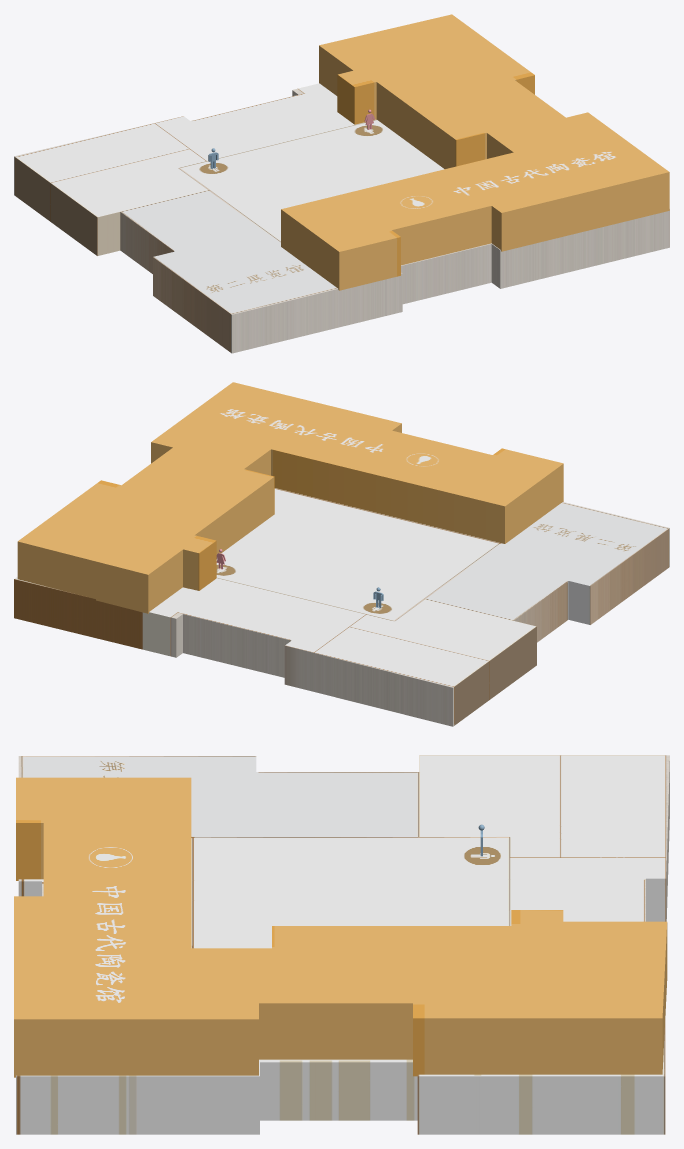
The model's file is two.obj.
3 views of the same model, one above another, from view 1: azimuth 30°, elevation 25°; view 2: azimuth 150°, elevation 25°; view 3: azimuth 270°, elevation 25° (orthographic). The views are drawn at different scales.
Visible parts, largest first — view 1: Line005, Line006; view 2: Line005, Line006; view 3: Line005, Line006.
Part boxes in pixels (box(x1,y1,x2,y2)): Line005: box(14, 83, 669, 353); Line006: box(281, 14, 669, 290); Line005: box(14, 488, 669, 726); Line006: box(17, 382, 563, 613); Line005: box(16, 755, 669, 1134); Line006: box(14, 777, 667, 1077).
Size of the model in its own units: 118 by 19.68 by 102.
Materials: 4 (2 with a texture image).
